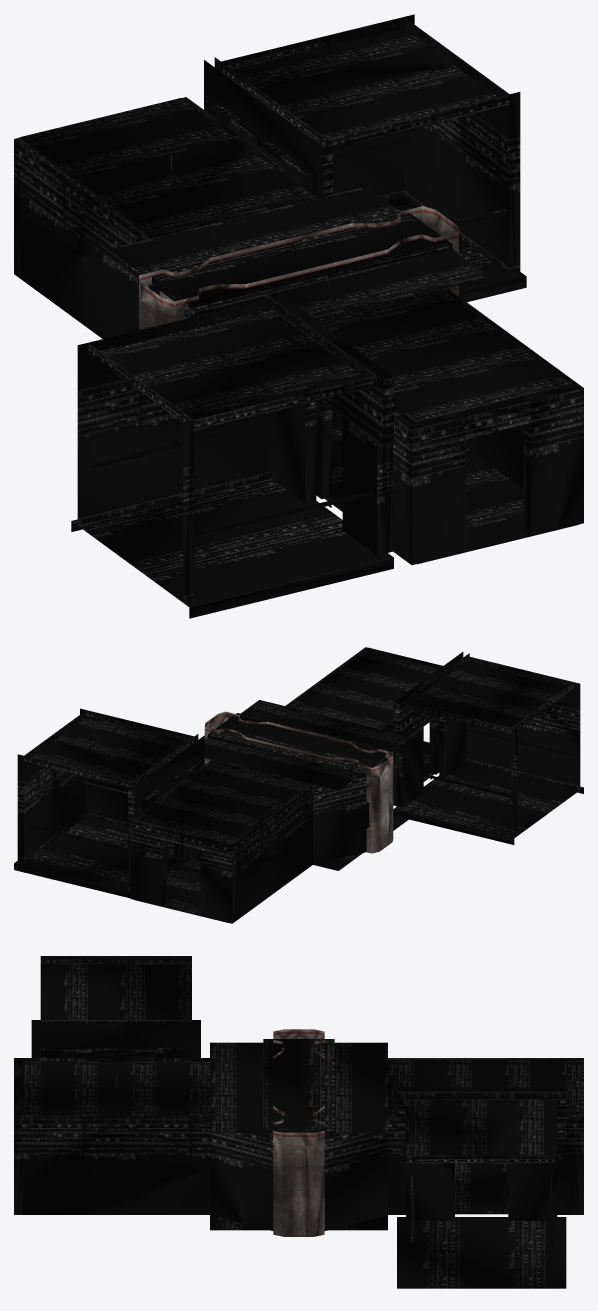
File: room2tunnel_opt.obj
The picture shows the model from 3 angles, top to bottom: view 1: azimuth 30°, elevation 25°; view 2: azimuth 150°, elevation 25°; view 3: azimuth 270°, elevation 25°; orthographic projection. The views are drawn at different scales.
Size of the model in its own units: 88 by 27.2 by 102.
Materials: 9 (9 with a texture image).
